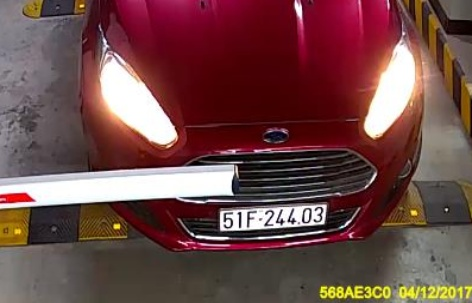plate: (215, 202, 330, 233)
